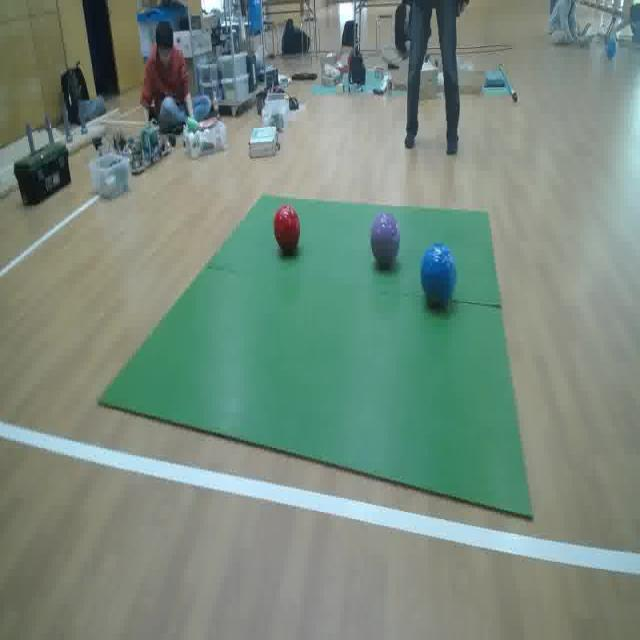blue_ball: (420, 242, 456, 310)
purple_ball: (370, 210, 400, 268)
red_ball: (274, 204, 300, 250)
